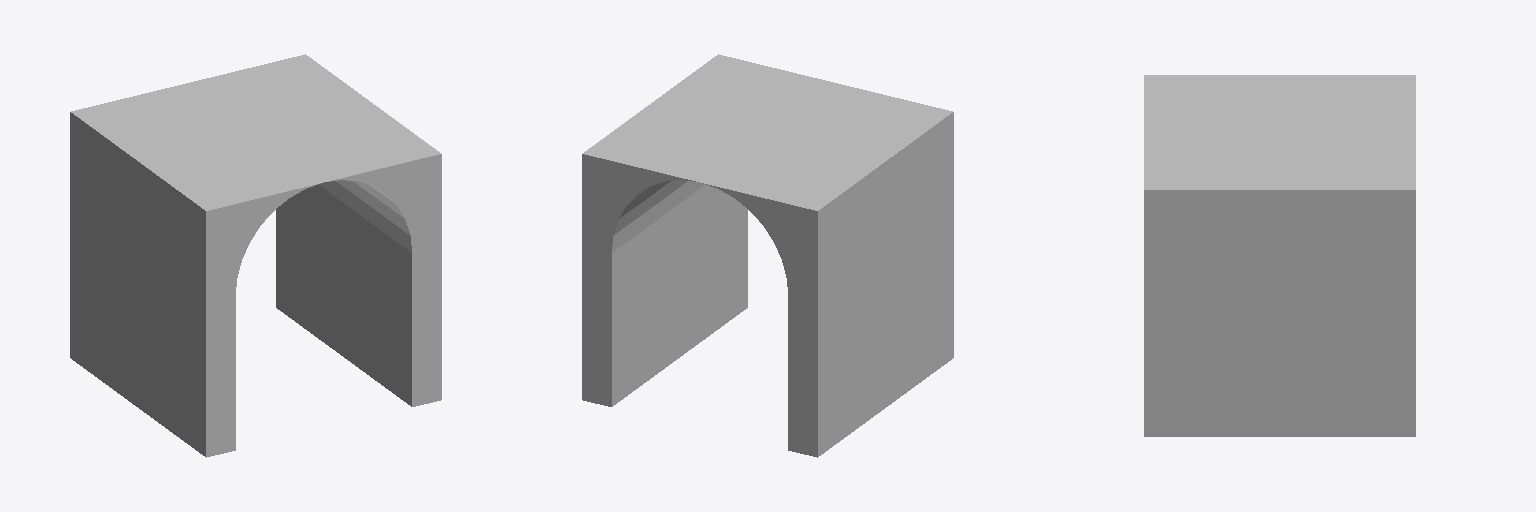
The model's file is internal_hall_arch.obj.
3 views of the same model, side by side, from view 1: azimuth 30°, elevation 25°; view 2: azimuth 150°, elevation 25°; view 3: azimuth 270°, elevation 25° (orthographic).
Parts seen in each view (by area): view 1: Cube.002; view 2: Cube.002; view 3: Cube.002.
Part boxes in pixels (x1,y1,x2,y2): Cube.002: (70, 54, 441, 457); Cube.002: (582, 54, 953, 457); Cube.002: (1144, 75, 1415, 436).
Bounding box in the file's own units: 4 × 4 × 4.